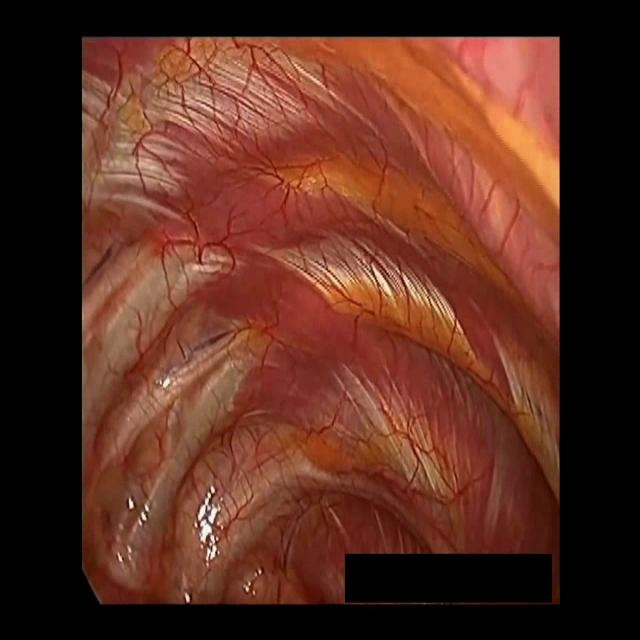surgical-area: (80, 34, 562, 603)
